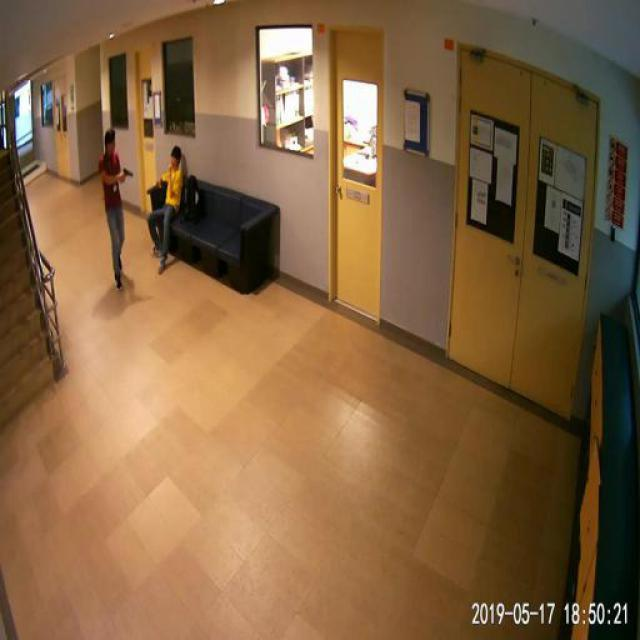weapon: (122, 168, 134, 177)
